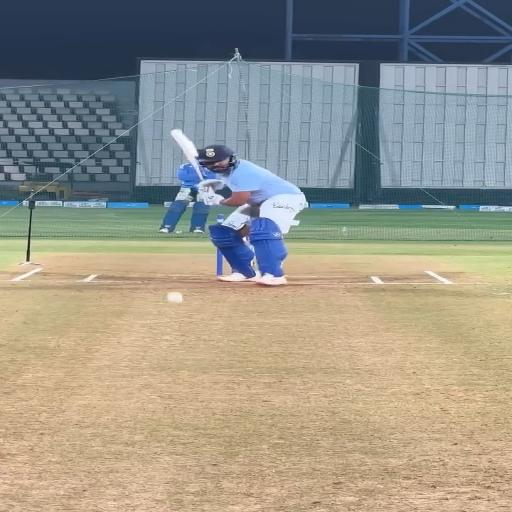Cricket bat: (171, 129, 203, 180)
